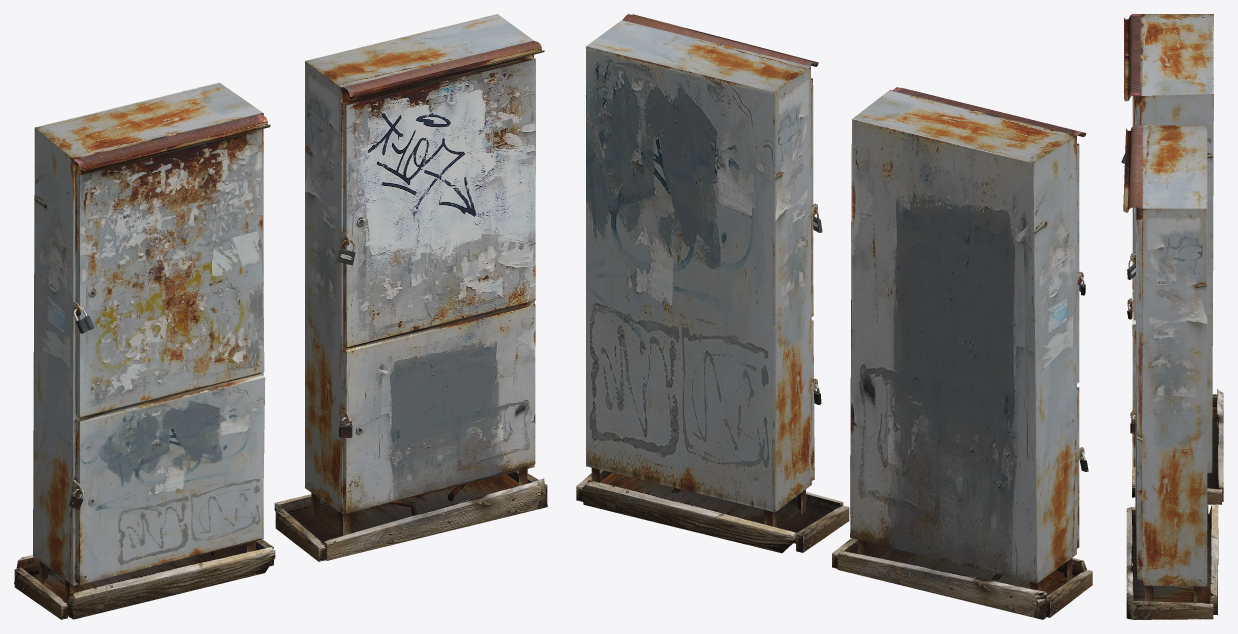
The model's file is twopowebox.fbx.
The picture shows the model from 3 angles, left to right: view 1: azimuth 30°, elevation 25°; view 2: azimuth 150°, elevation 25°; view 3: azimuth 270°, elevation 25°; orthographic projection. The views are drawn at different scales.
Visible parts, largest first — view 1: power2, power1; view 2: power2, power1; view 3: power2, power1.
Part boxes in pixels (x1,y1,x2,y2): power2: (274,14,547,561); power1: (14,82,275,619); power2: (576,14,849,553); power1: (832,87,1092,619); power2: (1123,125,1218,619); power1: (1121,14,1223,504).
Size of the model in its own units: 203 by 185 by 41.87.
1 material, 1 textured.
